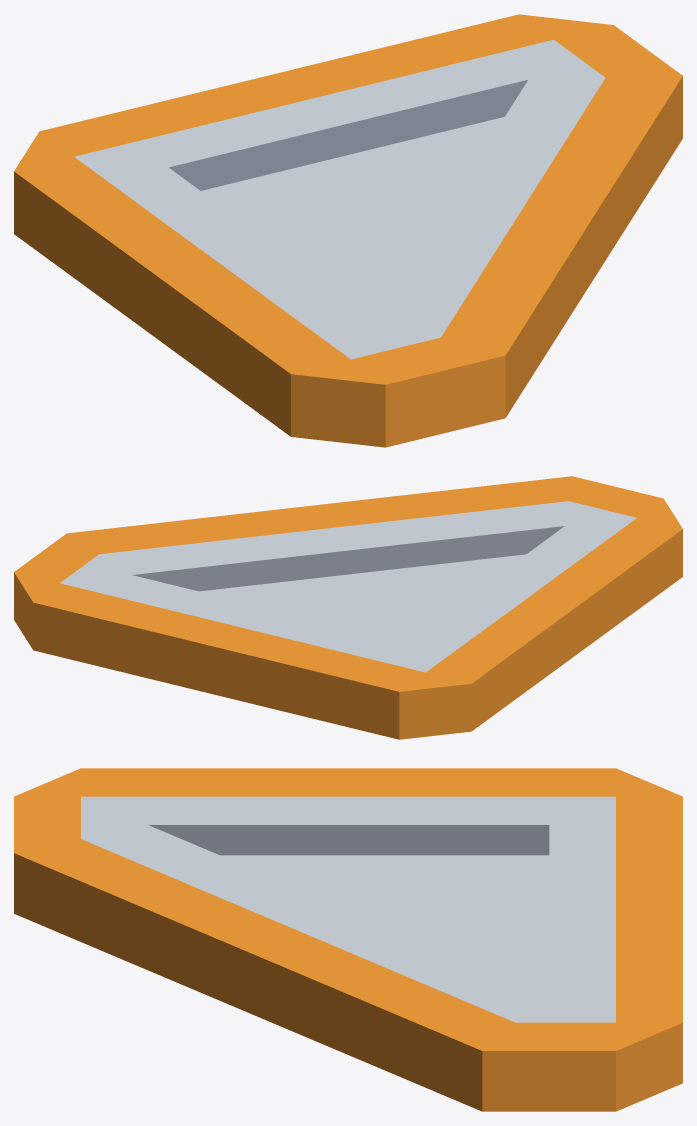
The model's file is platform_smallDiagonal.glb.
3 views of the same model, one above another, from view 1: azimuth 30°, elevation 25°; view 2: azimuth 150°, elevation 25°; view 3: azimuth 270°, elevation 25° (orthographic). The views are drawn at different scales.
Visible parts, largest first — view 1: platform_smallDiagonal; view 2: platform_smallDiagonal; view 3: platform_smallDiagonal.
Boxes of the visible parts, x1,y1,x2,y2 form: platform_smallDiagonal: (14, 14, 682, 447); platform_smallDiagonal: (14, 476, 682, 739); platform_smallDiagonal: (14, 768, 682, 1111).
Size of the model in its own units: 1 by 0.1 by 1.
